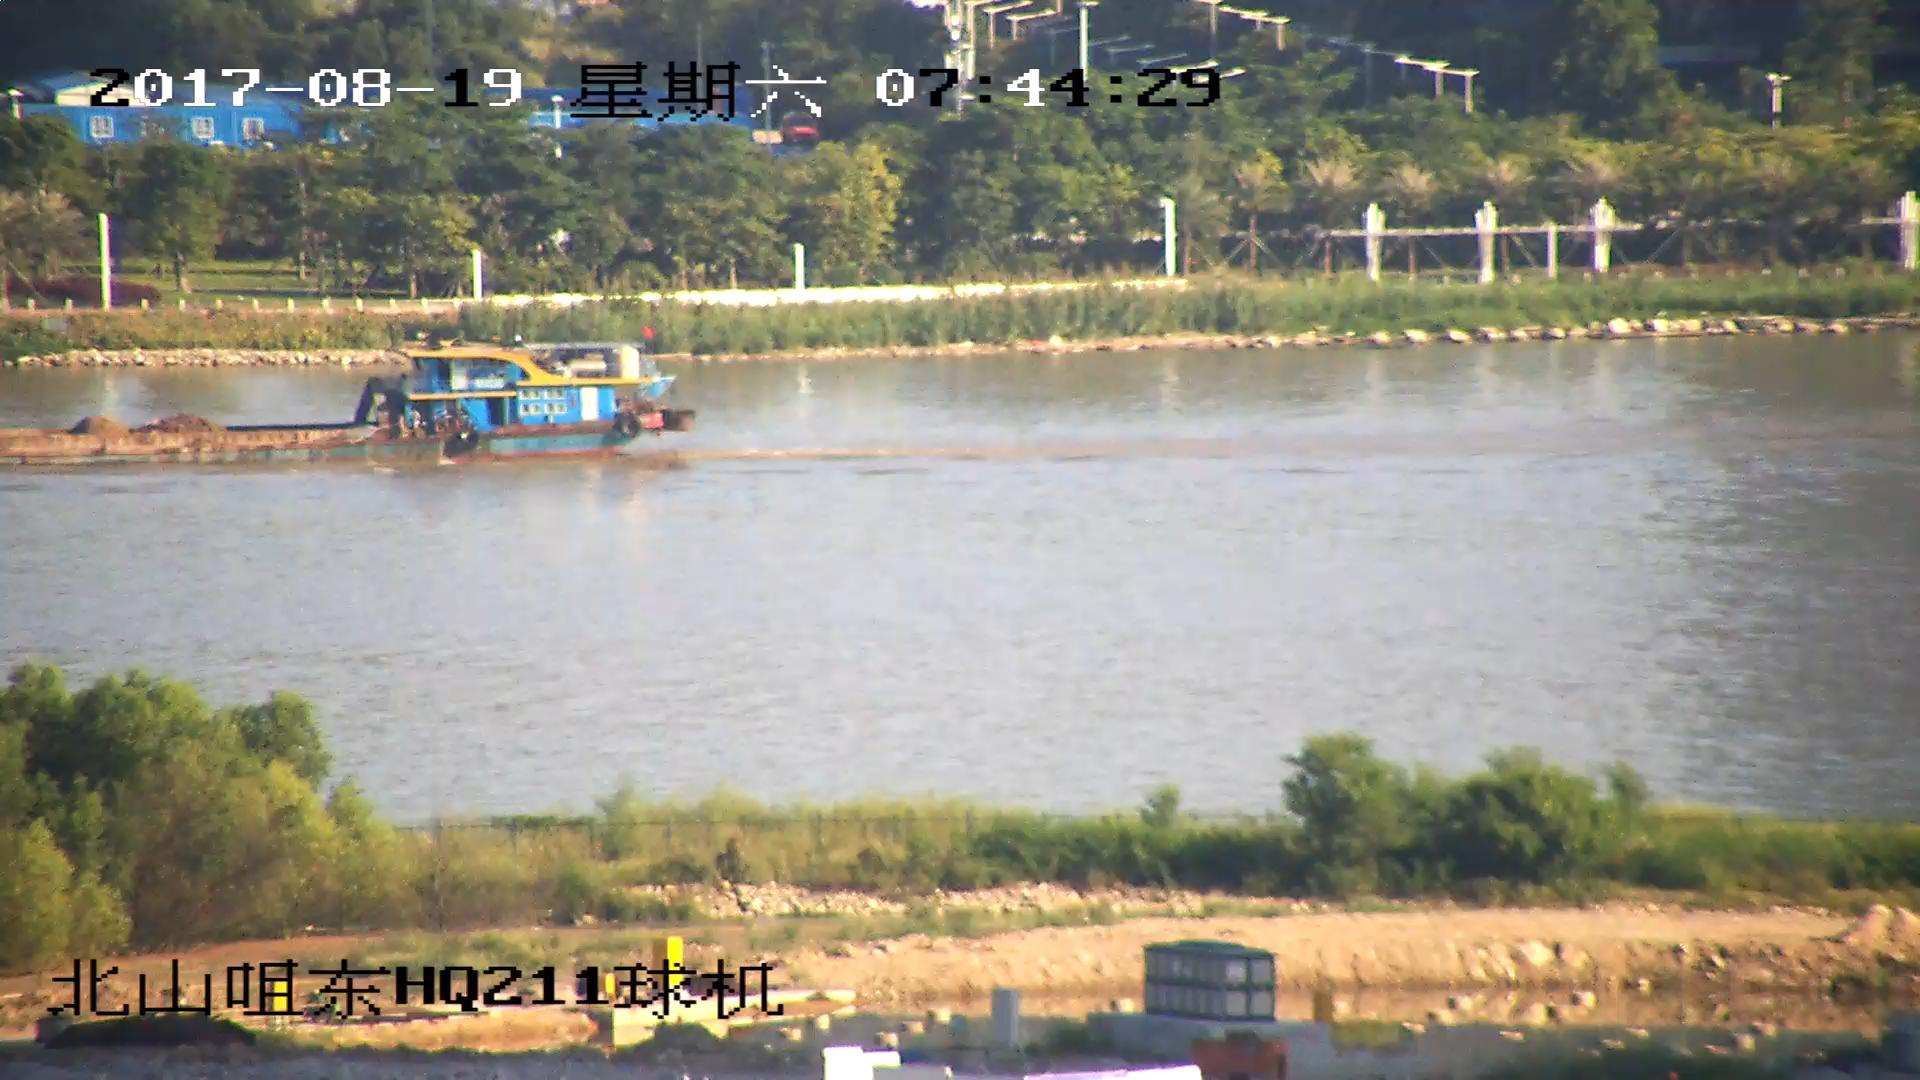Ship: (3, 328, 698, 469)
